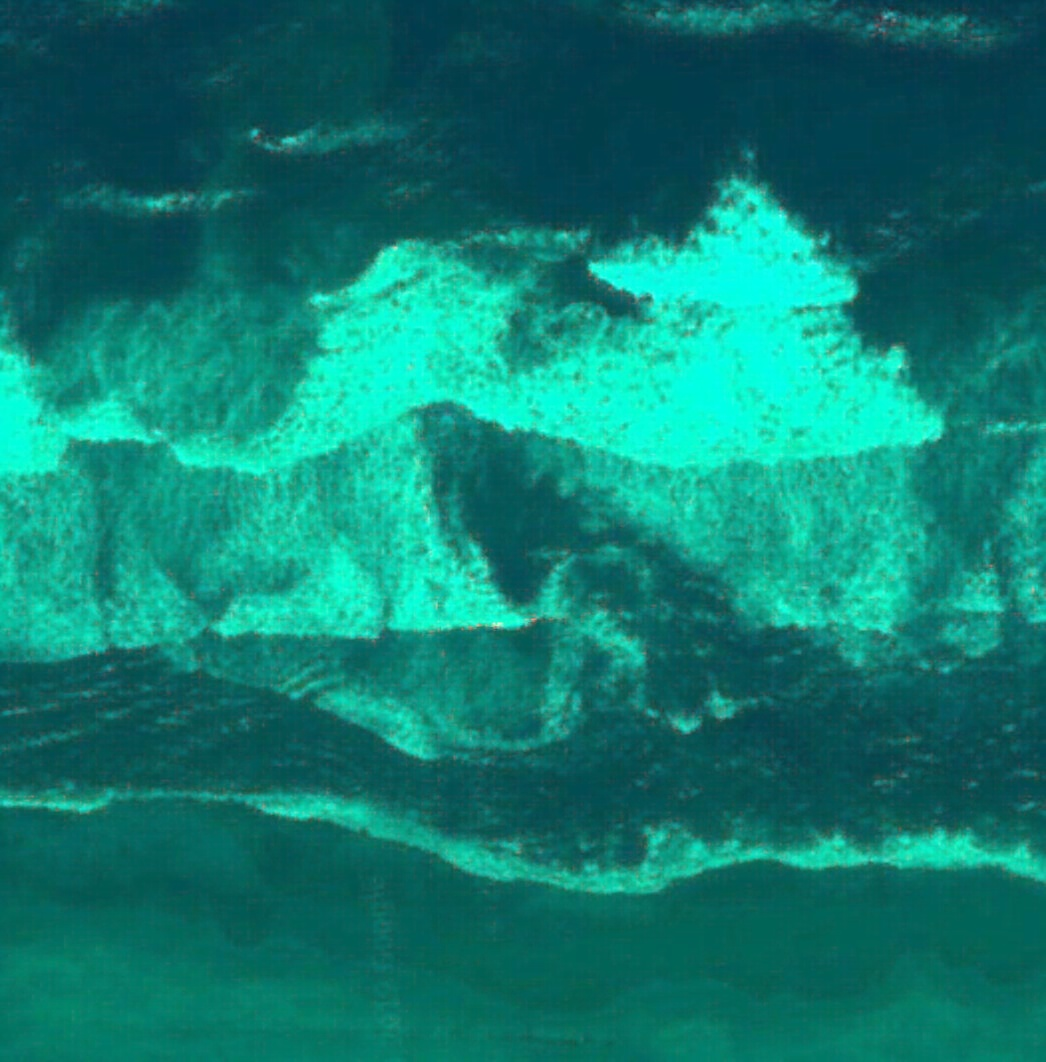rip_current: (385, 353, 879, 768)
